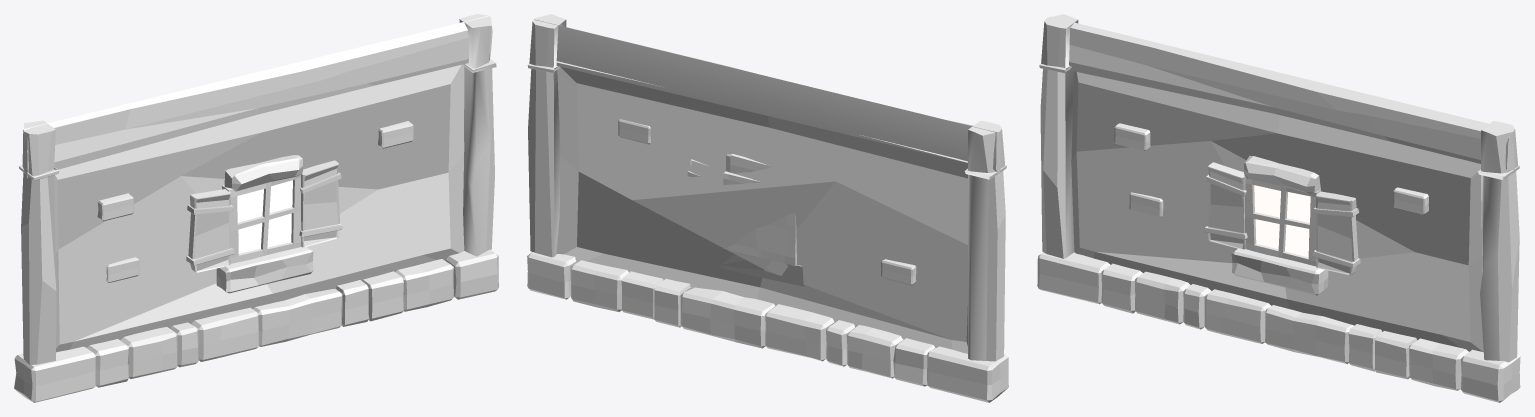
File: windowed_stone_wall.glb
3 views of the same model, side by side, from view 1: azimuth 30°, elevation 25°; view 2: azimuth 150°, elevation 25°; view 3: azimuth 330°, elevation 25° (orthographic).
Visible parts, largest first — view 1: windowed_stone_wall; view 2: windowed_stone_wall; view 3: windowed_stone_wall.
Part boxes in pixels (left/top/right/bottom): windowed_stone_wall: left=14, top=14, right=498, bottom=402; windowed_stone_wall: left=527, top=14, right=1008, bottom=402; windowed_stone_wall: left=1037, top=14, right=1520, bottom=402.
Bounding box in the file's own units: 12.44 × 6.77 × 1.04.
